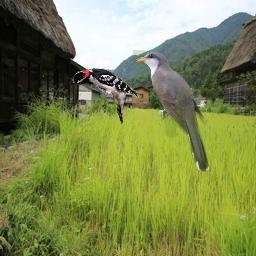Cuckoo: (133, 50, 212, 174)
Woodpecker: (69, 67, 141, 126)
